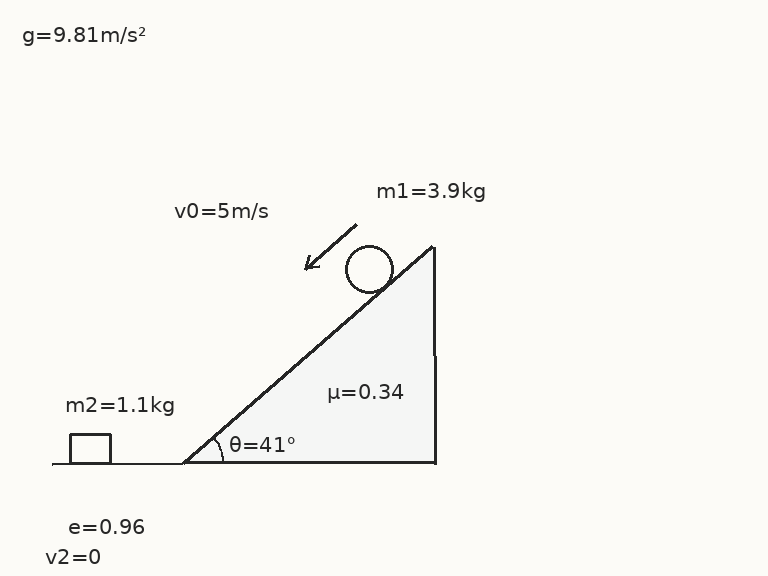ball: (343, 243, 395, 295)
block: (68, 432, 112, 465)
ramp: (181, 244, 435, 465)
